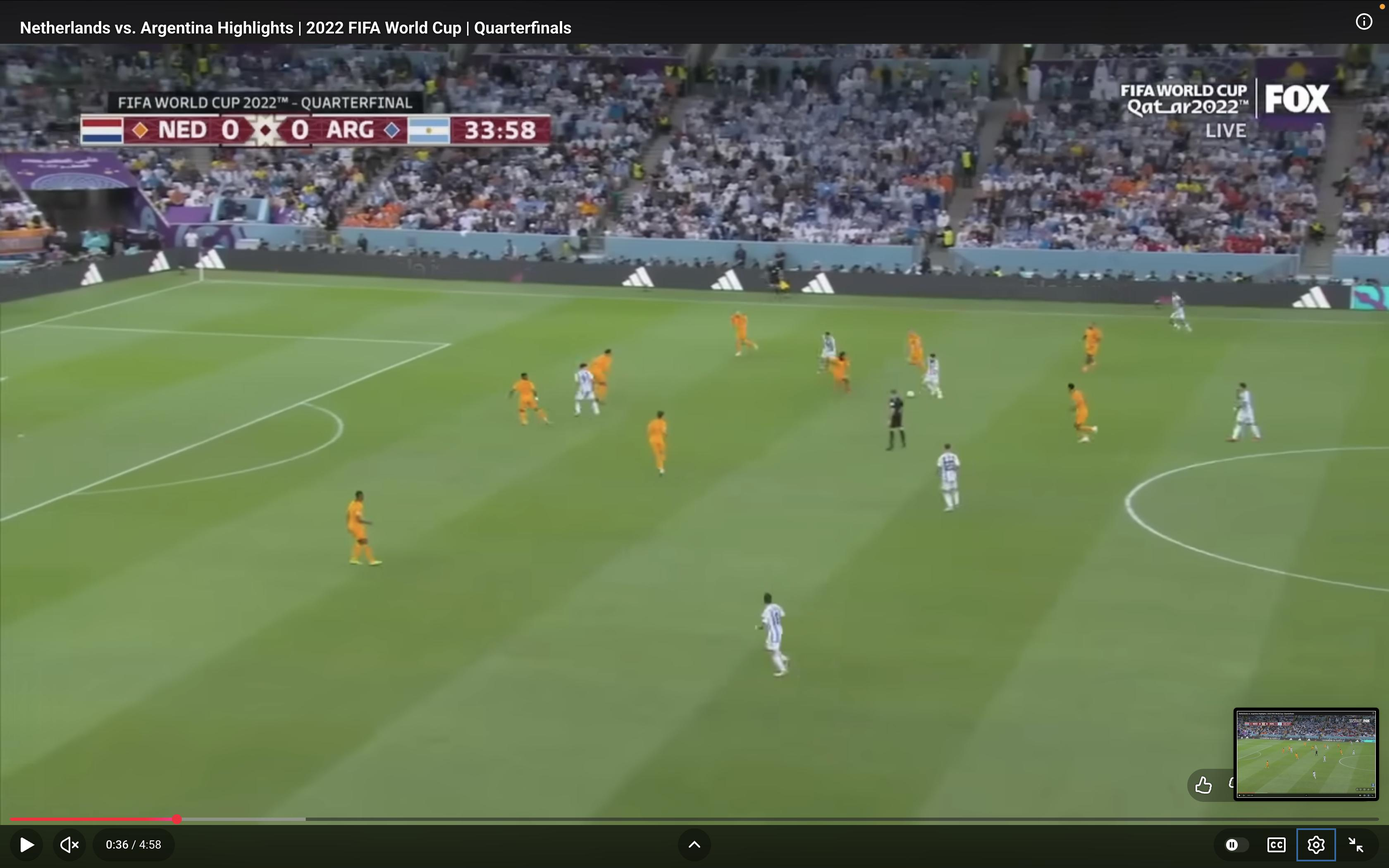ball: (906, 391, 916, 398)
player: (757, 593, 789, 676), (346, 491, 381, 565), (510, 372, 549, 425), (1229, 382, 1261, 441), (1068, 384, 1097, 441), (936, 443, 960, 511), (575, 363, 601, 417), (647, 411, 668, 475), (589, 349, 612, 404), (730, 312, 758, 356), (1081, 323, 1103, 372), (905, 327, 927, 376), (923, 353, 943, 398), (1169, 293, 1191, 332), (830, 351, 850, 393), (819, 331, 837, 373)
referee: (887, 389, 906, 450)
